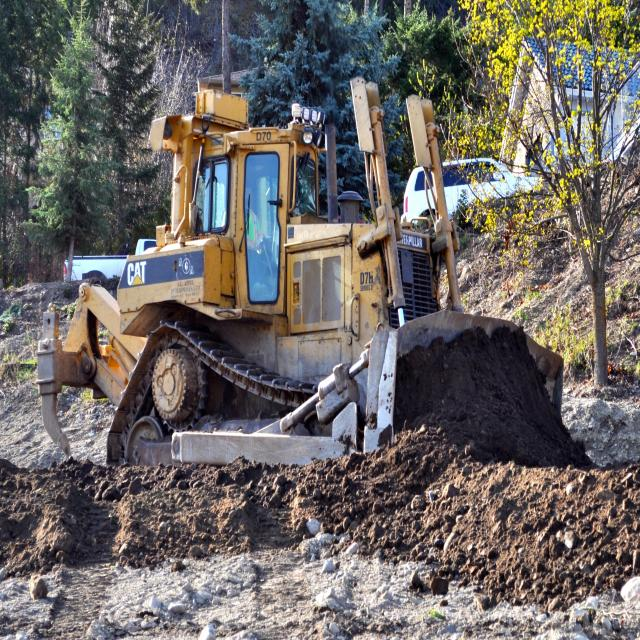Bulldozer: (30, 92, 568, 484)
